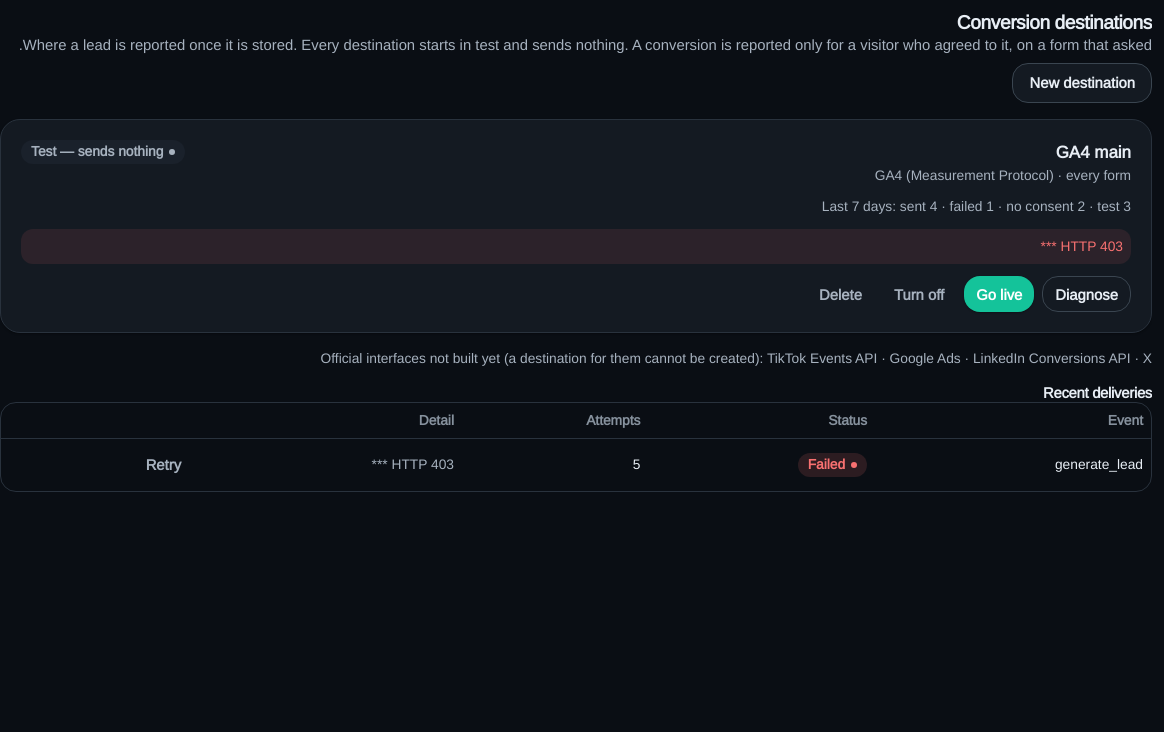
Test: the conversion destinations screen › diagnoses from a synthetic lead and shows the payload and what was or was not sent
Click the button with test id "destination-diagnose-d1": (1087, 294) 1042,276 -> 1131,312
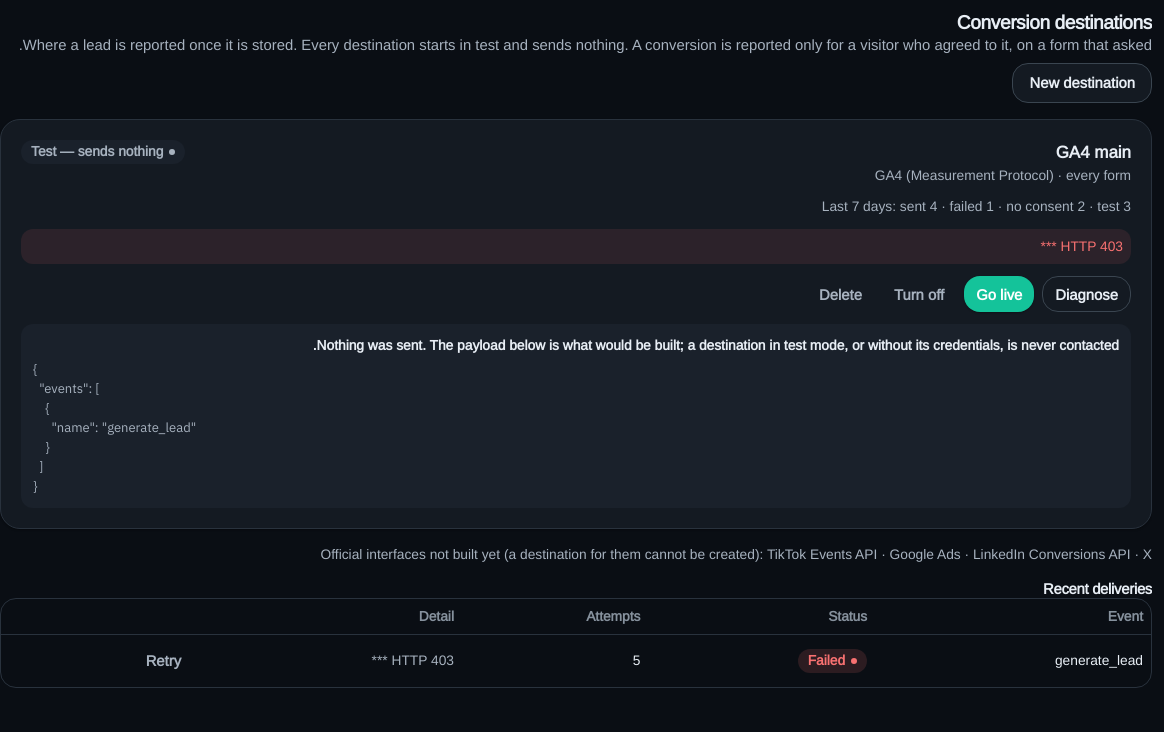
Check: the element with test id "destination-diagnosis-d1" shows "Nothing was sent. The payload below", box 313,337 -> 1119,353
Check: the element with test id "destination-diagnosis-d1" shows "generate_lead", box 33,360 -> 196,496
